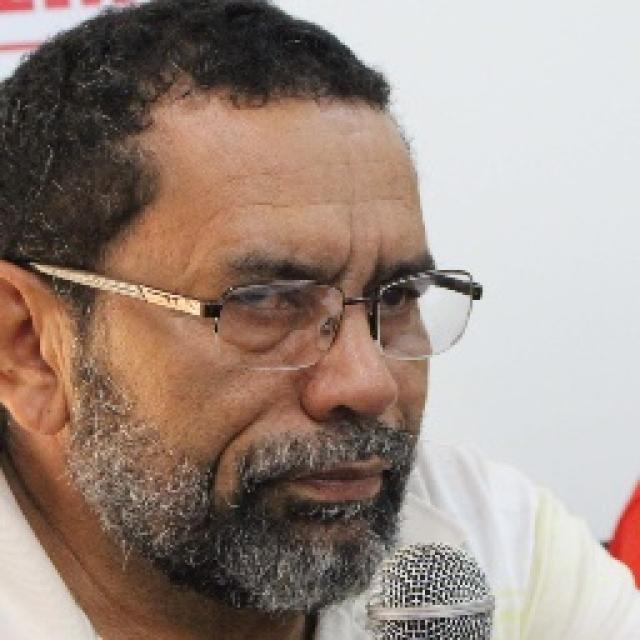earlobe: (18, 370, 74, 438)
eye: (228, 282, 296, 310), (364, 282, 414, 316)
nose: (304, 402, 415, 452)
wholeear: (0, 257, 74, 437)
